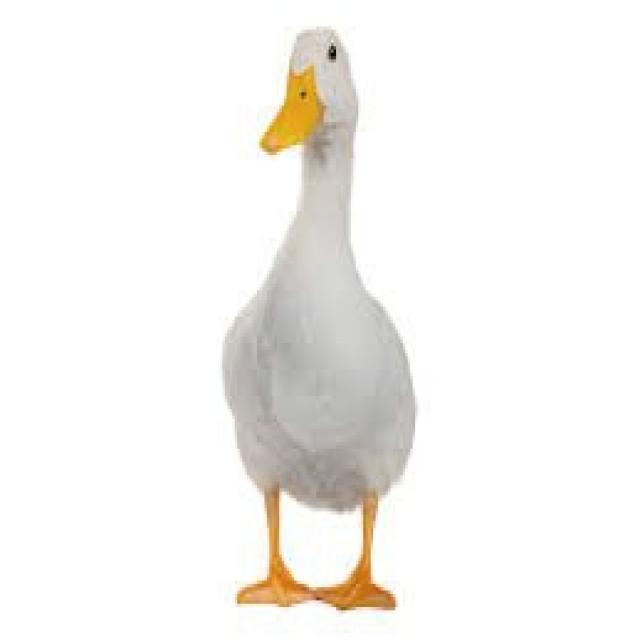duck: (222, 26, 413, 607)
